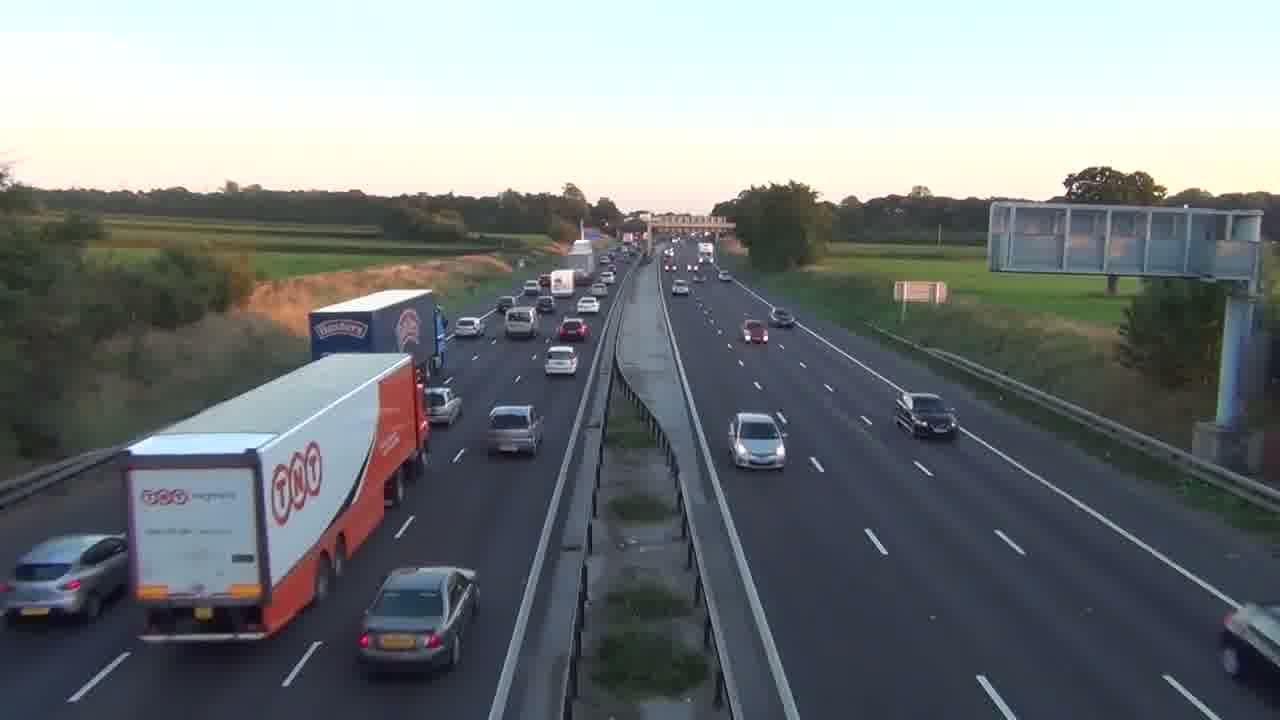car: (353, 563, 481, 678), (0, 532, 129, 625), (1219, 602, 1279, 686), (728, 410, 788, 471), (893, 390, 957, 441), (484, 403, 545, 456), (502, 306, 537, 340), (544, 345, 579, 376), (554, 318, 590, 342)
truck: (125, 349, 430, 643), (308, 287, 446, 382)
